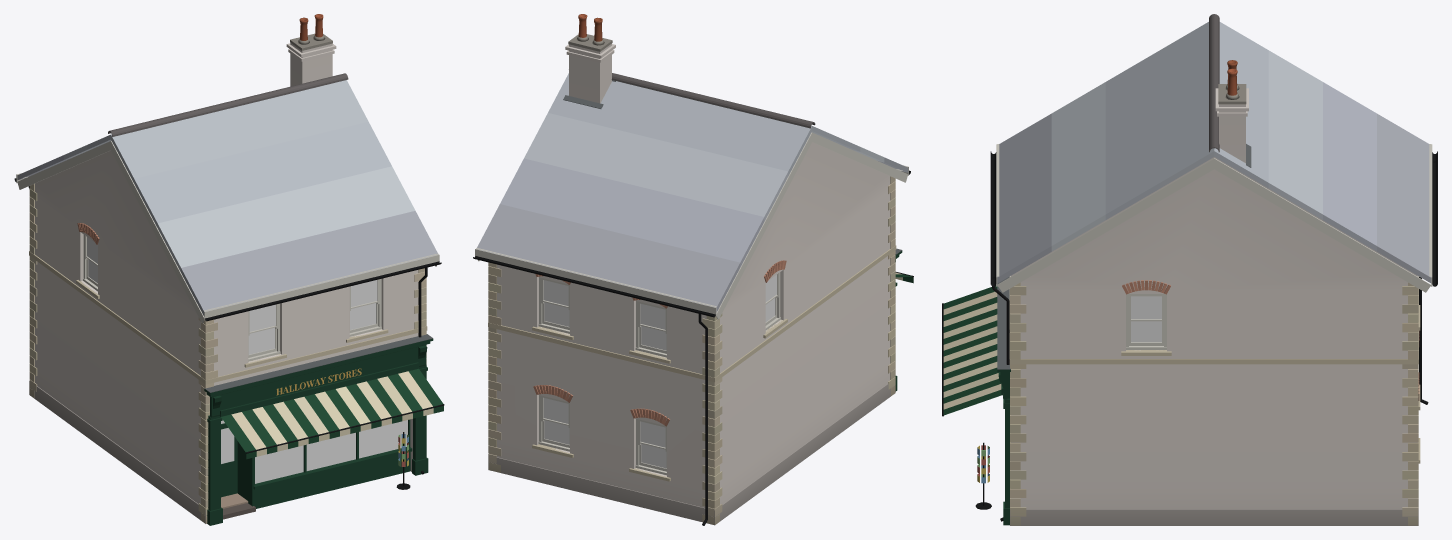
The model's file is town_shop_a_lod1.glb.
3 views of the same model, side by side, from view 1: azimuth 30°, elevation 25°; view 2: azimuth 150°, elevation 25°; view 3: azimuth 270°, elevation 25° (orthographic). The views are drawn at different scales.
Visible parts, largest first — view 1: body; view 2: body; view 3: body.
Part boxes in pixels (bbox=[...]): body: bbox=[14, 14, 444, 525]; body: bbox=[473, 14, 913, 525]; body: bbox=[942, 14, 1437, 525].
Size of what is drawn, in the model's own units: 6.98 by 10.95 by 10.96.
